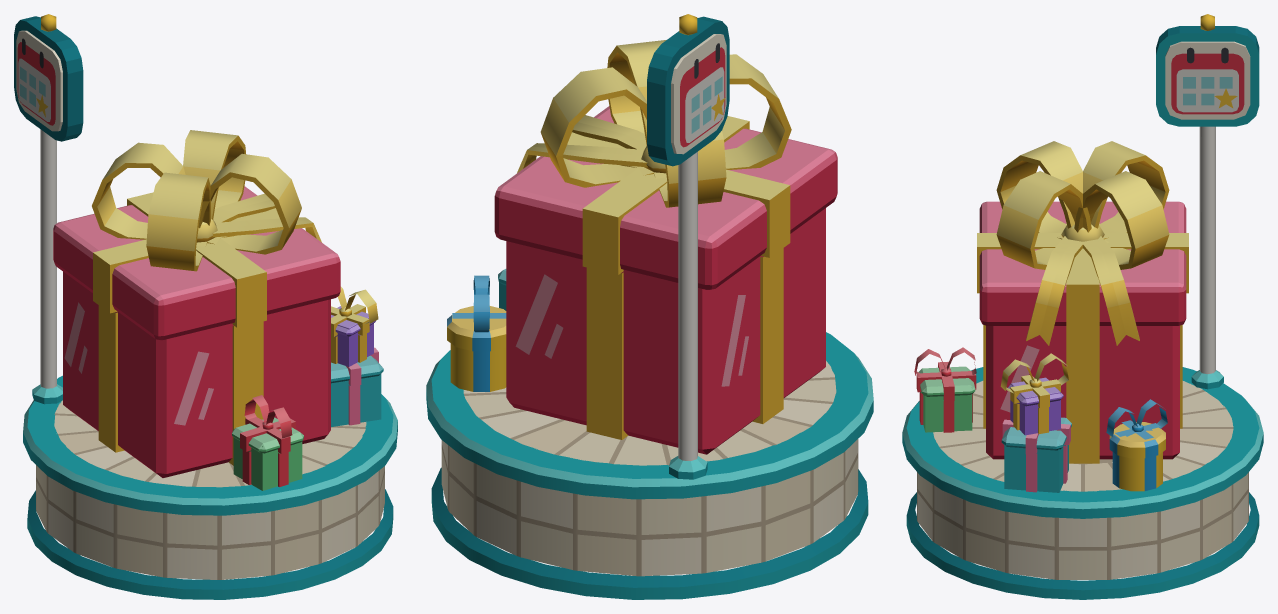
The model's file is gift_stand.glb.
3 renders of one model, left to right at view 1: azimuth 30°, elevation 25°; view 2: azimuth 150°, elevation 25°; view 3: azimuth 270°, elevation 25°, orthographic. The views are drawn at different scales.
Parts seen in each view (by area): view 1: GiftStand; view 2: GiftStand; view 3: GiftStand.
Boxes of the visible parts, x1,y1,x2,y2 form: GiftStand: [14, 14, 397, 599]; GiftStand: [426, 14, 873, 599]; GiftStand: [902, 14, 1263, 599].
Size of the model in its own units: 1.68 by 2.39 by 1.68.
